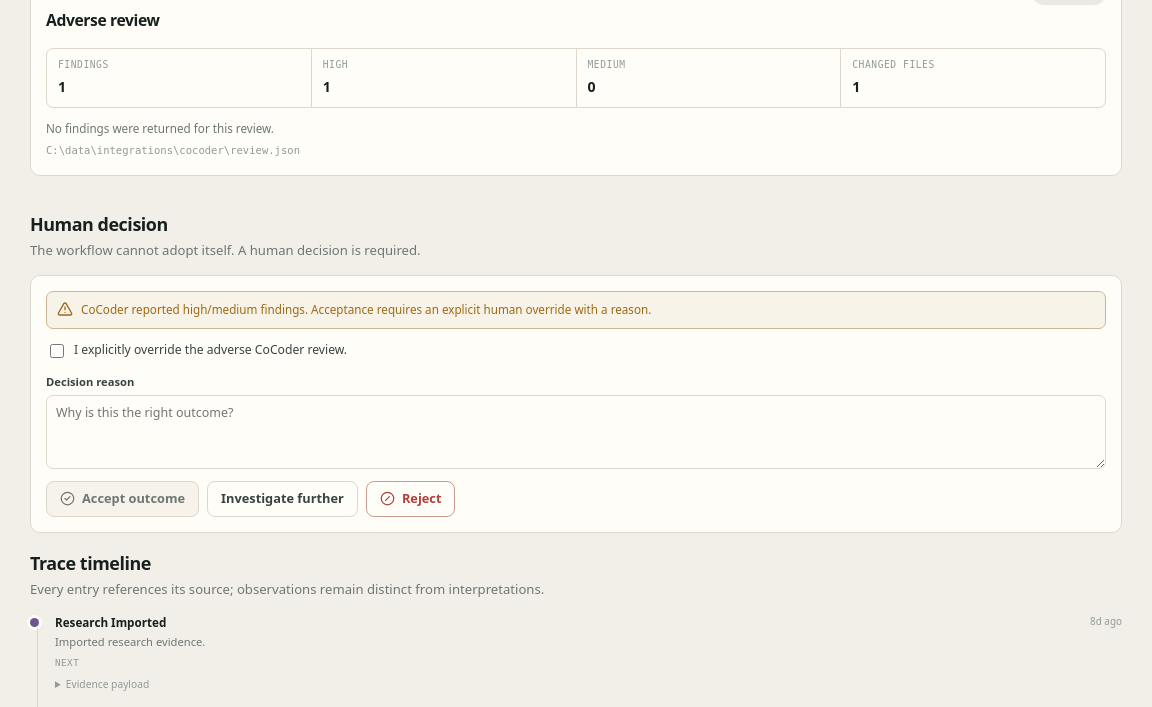
Test case: WorkflowDetailPage › requires an explicit override when CoCoder reports an adverse review
(page scrolled)
Expected: the button "Accept outcome" is disabled, [46, 481, 199, 517]
Expected: the text "explicit human override" is shown, [81, 302, 651, 317]
Click the checkbox labelled "I explicitly override the adverse CoCoder review.": (57, 351) [50, 344, 64, 358]
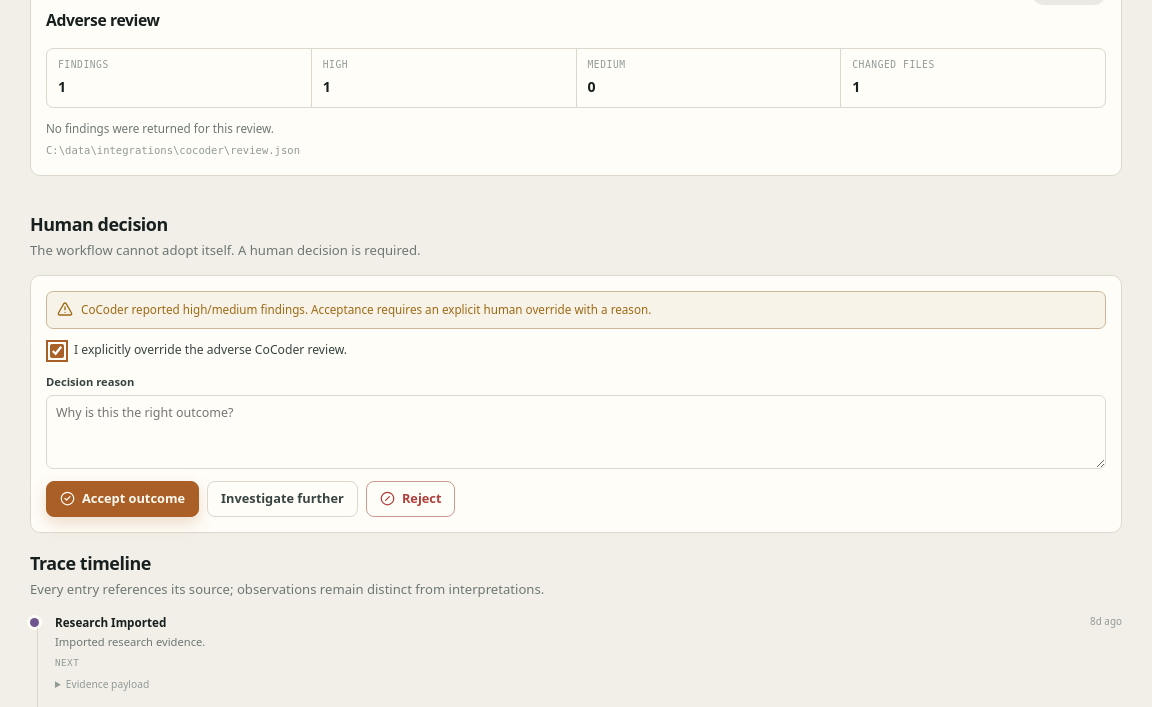
Result: the button "Accept outcome" is enabled at [46, 481, 199, 517]
